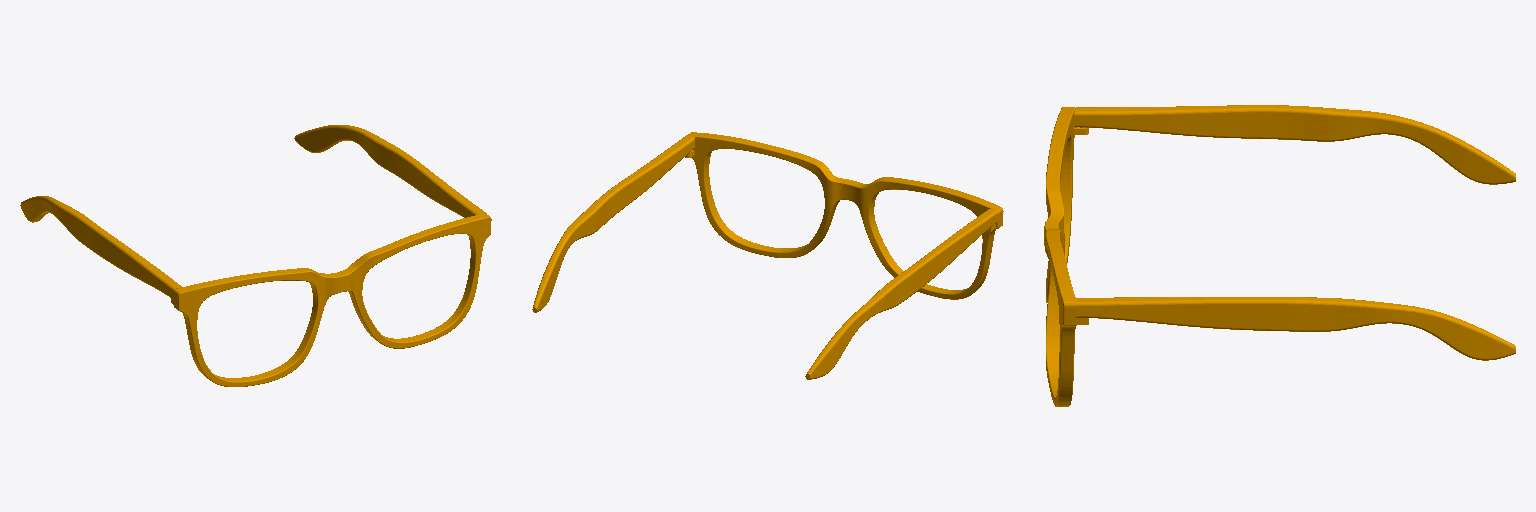
URDF robot description (object):
<?xml version="1.0"?>
<robot name="object">
  <link name="object">
    <visual>
      <origin xyz="0.0 0.0 0.0"/>
      <geometry>
        <mesh filename="eyeglasses.stl" scale="1.00 1.00 1.00"/>
      </geometry>
    </visual>
    <collision>
      <origin xyz="0.0 0.0 0.0"/>
      <geometry>
        <mesh filename="eyeglasses.stl" scale="1.00 1.00 1.00"/>
      </geometry>
    </collision>
  </link>
</robot>
    
                    

--- What the picture shows (computed from the rendered views, not written in the file) ---
Views: 3 orthographic renders of the robot side by side, from view 1: azimuth 30°, elevation 25°; view 2: azimuth 150°, elevation 25°; view 3: azimuth 270°, elevation 25°.
Model object with 1 links and 0 joints (none), rooted at object, posed all joints at 0.
Visible links, largest first — view 1: object; view 2: object; view 3: object.
Link boxes in pixels (bbox=[...]): object: bbox=[20, 125, 491, 386]; object: bbox=[532, 132, 1003, 379]; object: bbox=[1044, 105, 1515, 406].
Bounding box of the posed robot: 0.1335 × 0.1346 × 0.0441 m (x, y, z).
Meshes: 1 distinct files referenced, 1 mesh visuals loaded (1 binary STL).
